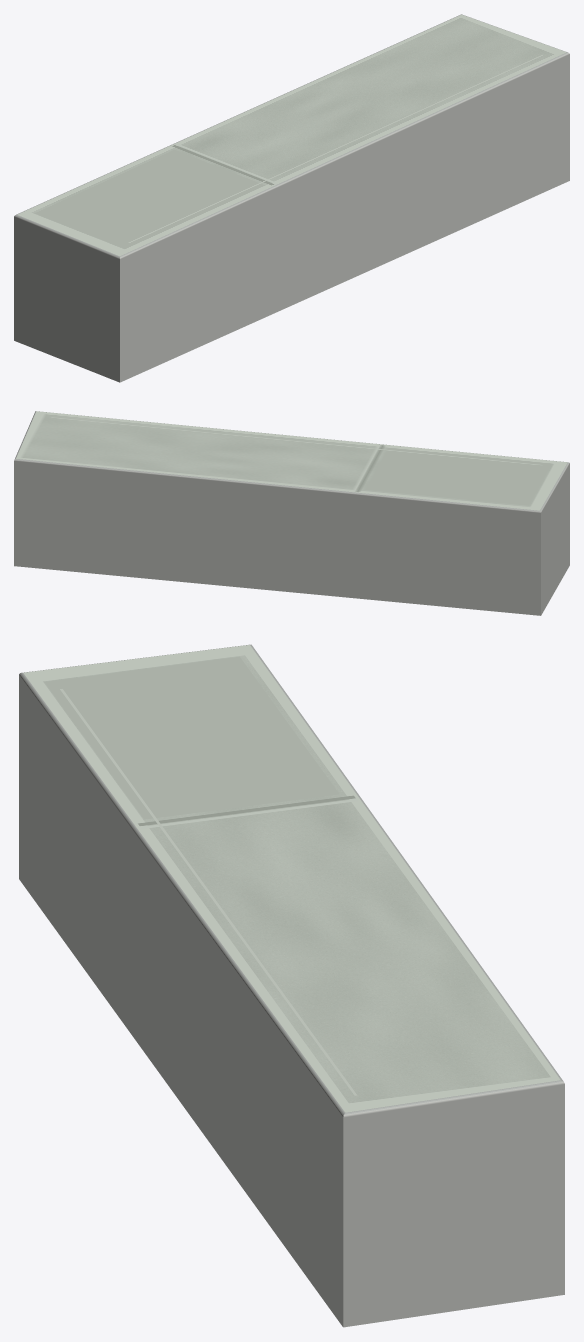
Rendered from intact.glb.
The picture shows the model from 3 angles, top to bottom: view 1: azimuth 30°, elevation 25°; view 2: azimuth 150°, elevation 25°; view 3: azimuth 270°, elevation 25°; orthographic projection. The views are drawn at different scales.
Parts seen in each view (by area): view 1: SM_gh2_Intact_00; view 2: SM_gh2_Intact_00; view 3: SM_gh2_Intact_00.
Boxes of the visible parts, box(x1,y1,x2,y2) form: SM_gh2_Intact_00: box(14, 14, 569, 382); SM_gh2_Intact_00: box(14, 411, 569, 615); SM_gh2_Intact_00: box(19, 644, 564, 1327).
Size of the model in its own units: 2.2 by 0.4647 by 1.08.
3 materials, 1 textured.
